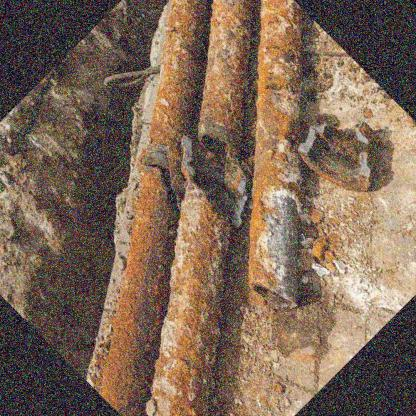burst: (178, 135, 263, 227)
